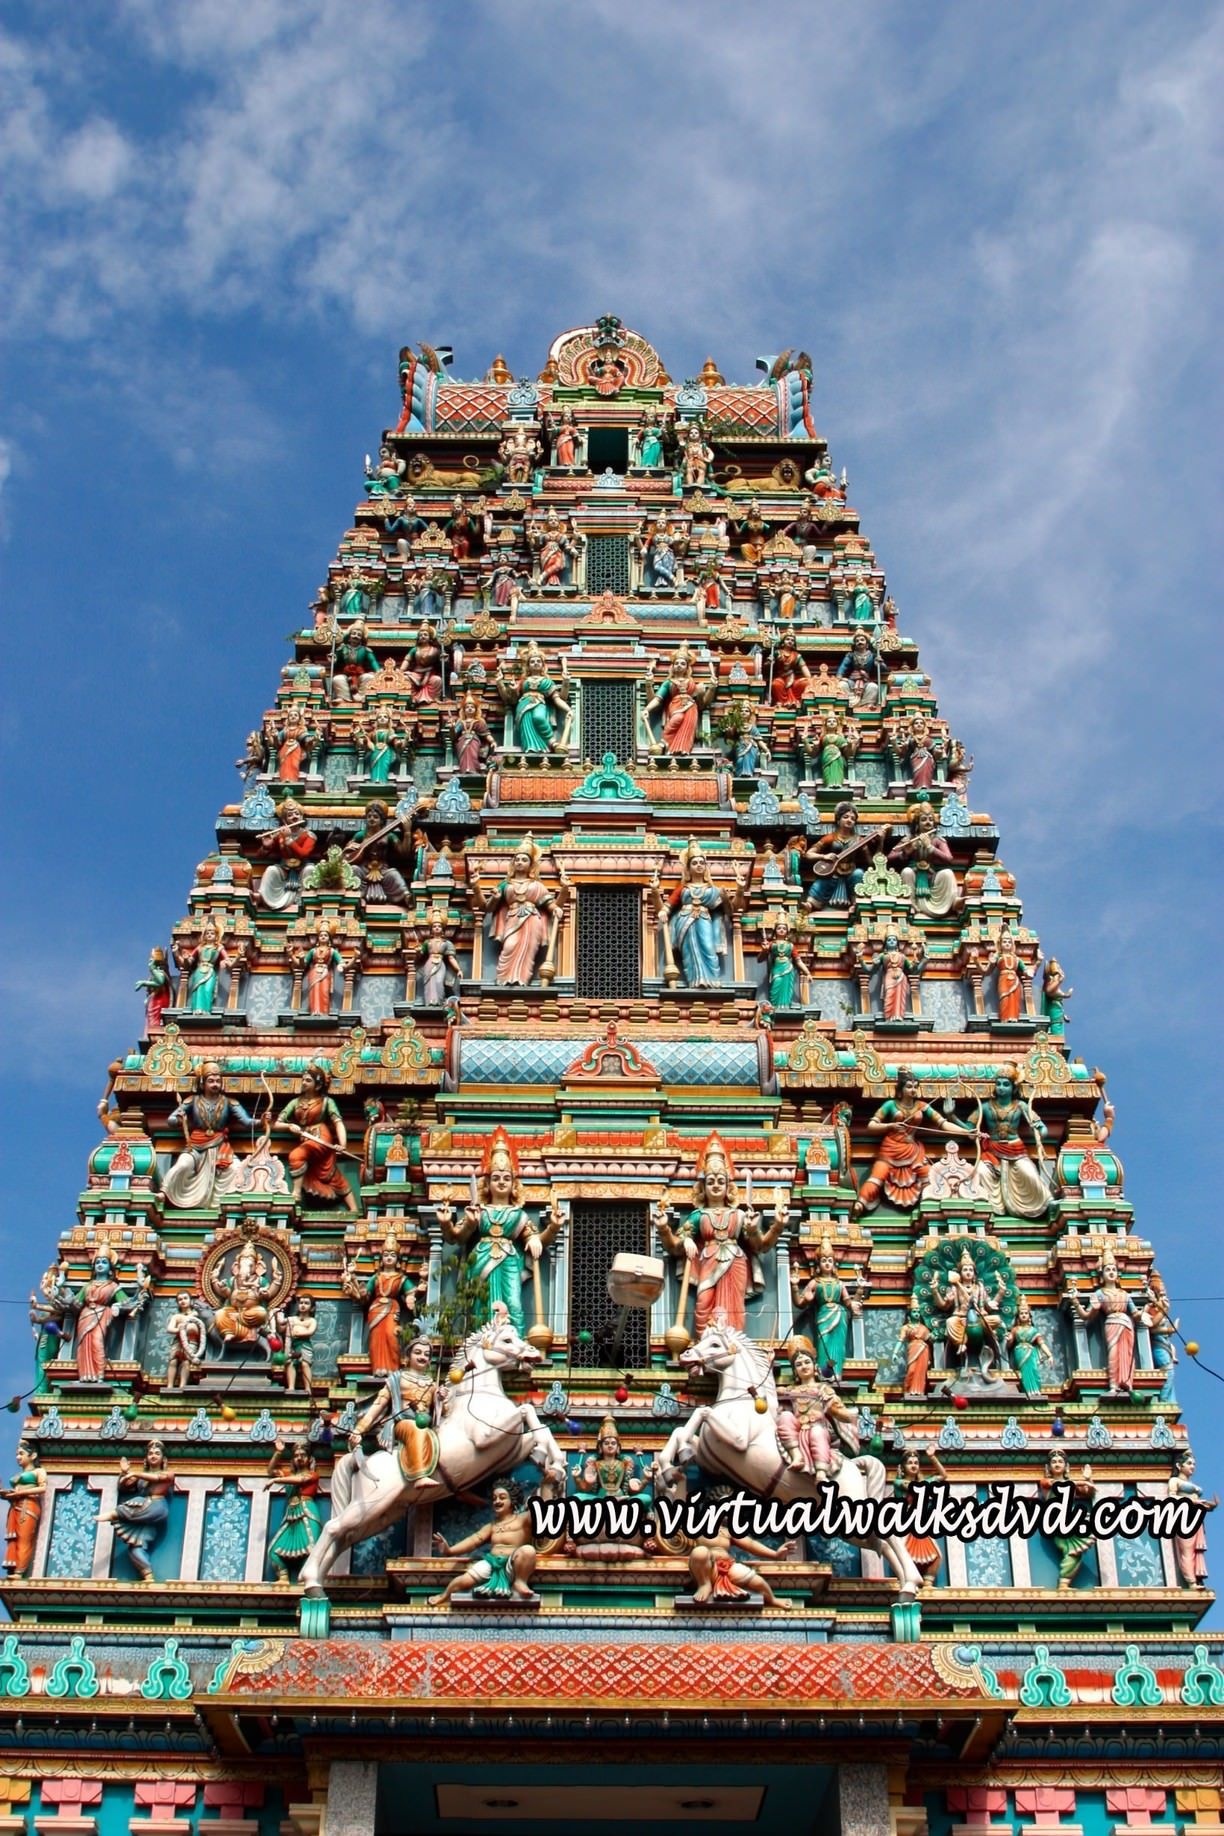Hindu Temple: (96, 325, 1188, 1680)
